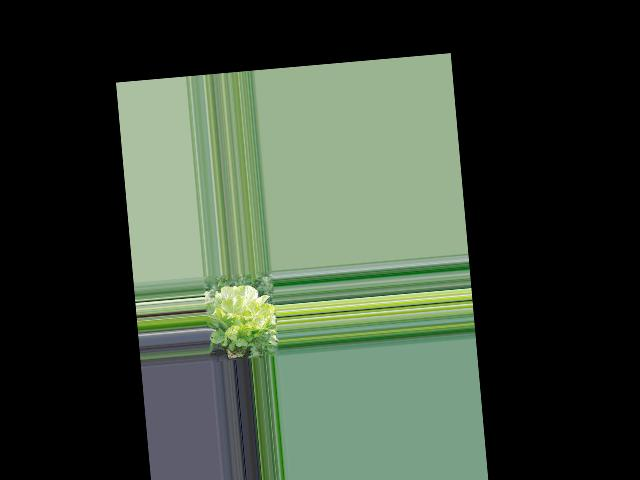lettuce: (205, 283, 271, 347)
